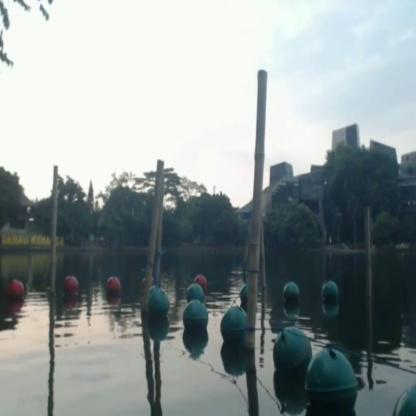green_buoy: (306, 352, 357, 410), (274, 326, 310, 378), (221, 306, 249, 346), (145, 285, 171, 322), (182, 302, 208, 334), (322, 281, 340, 308), (282, 280, 298, 310), (187, 283, 204, 299)
red_buoy: (61, 272, 78, 300), (104, 275, 120, 302), (11, 280, 24, 302), (194, 272, 207, 283)
